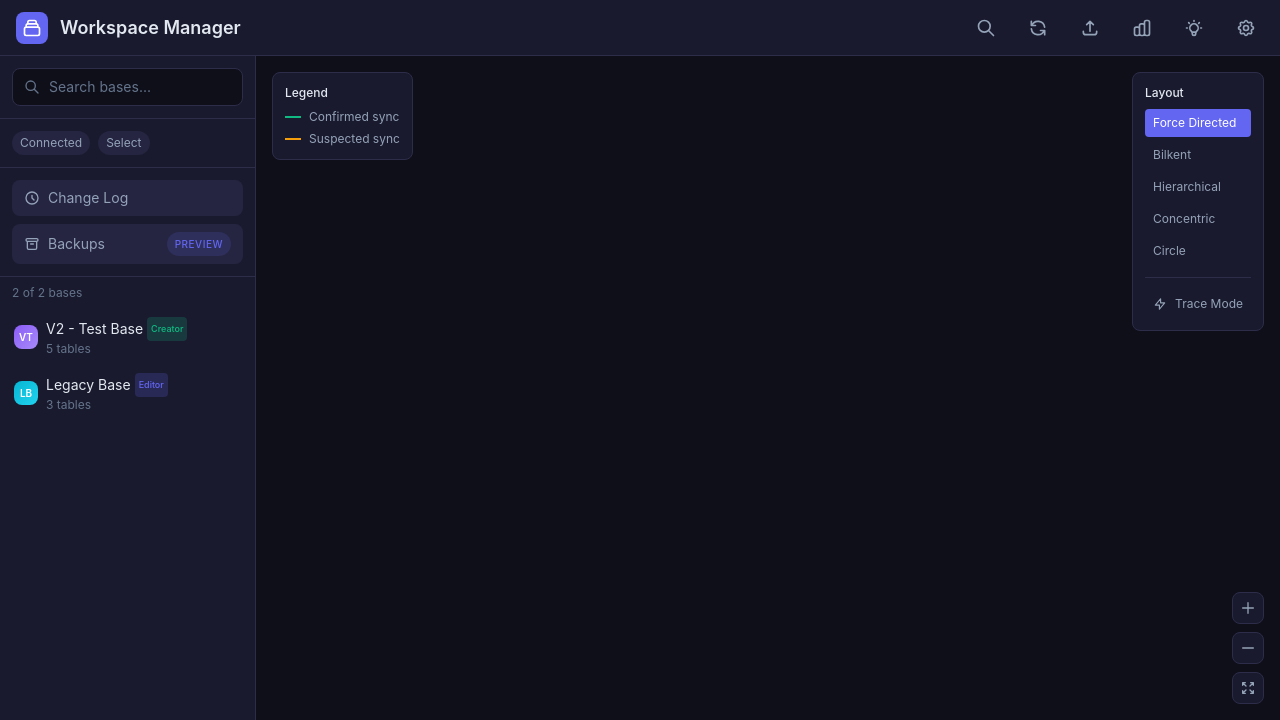
Test case: App › opens settings modal when settings button clicked
Click the button named "settings" at (1246, 28), box [1228,10,1264,46]
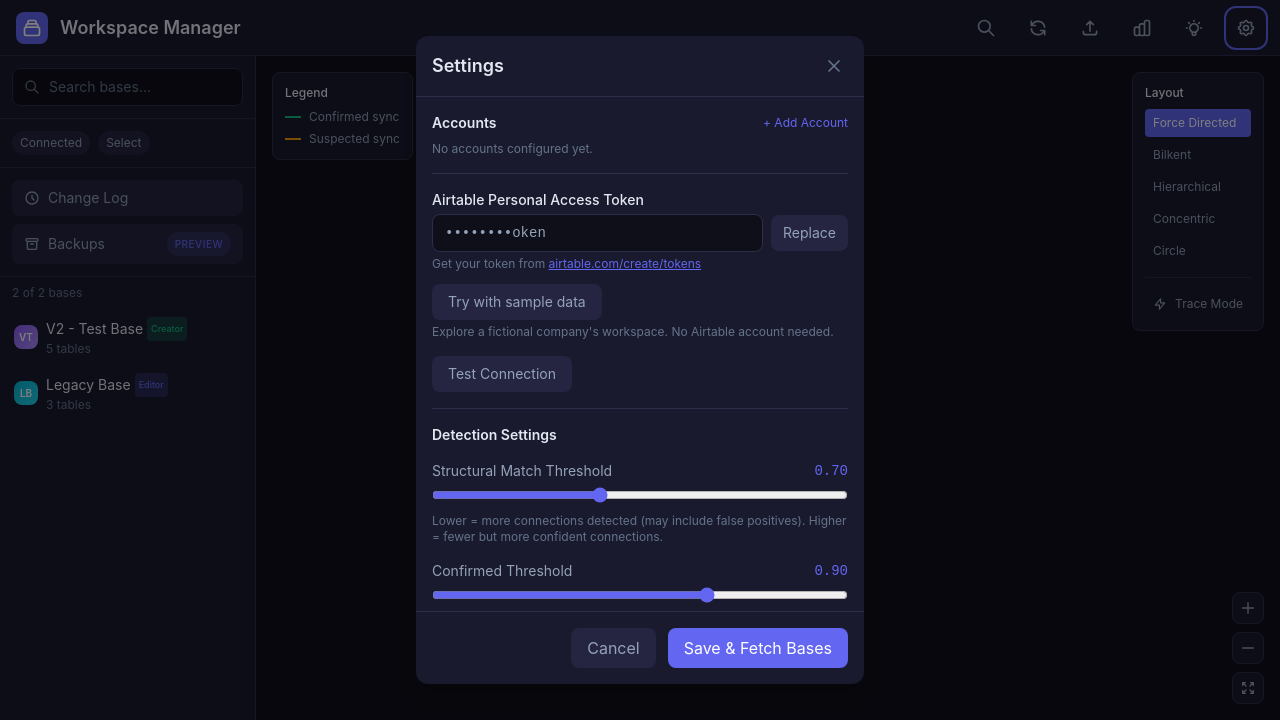
Result: the heading "Settings" is shown at [432,52,504,80]
